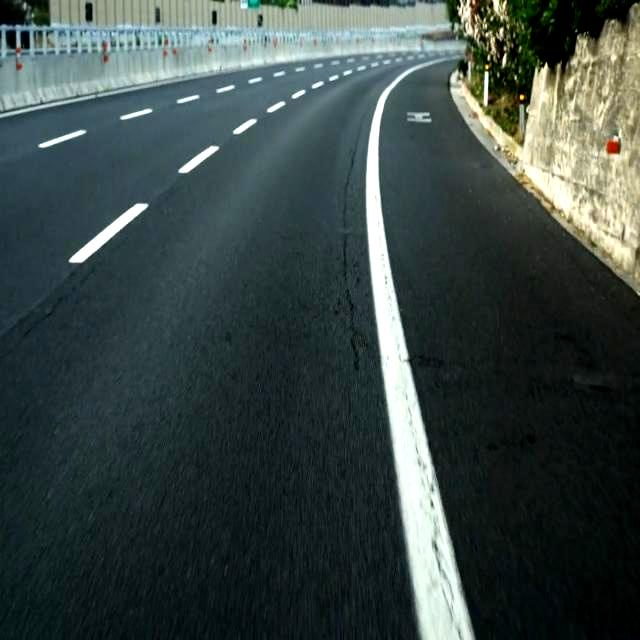lane: (368, 57, 474, 639), (70, 205, 147, 262), (179, 146, 219, 172), (39, 130, 85, 147), (233, 119, 256, 133), (121, 109, 151, 118), (268, 102, 285, 111)
road: (1, 62, 419, 639), (380, 64, 639, 639)
